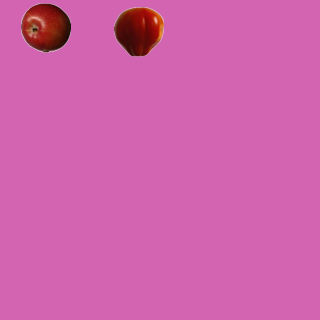Apple Braeburn: (20, 2, 70, 52)
Tomato 1: (113, 6, 163, 56)
